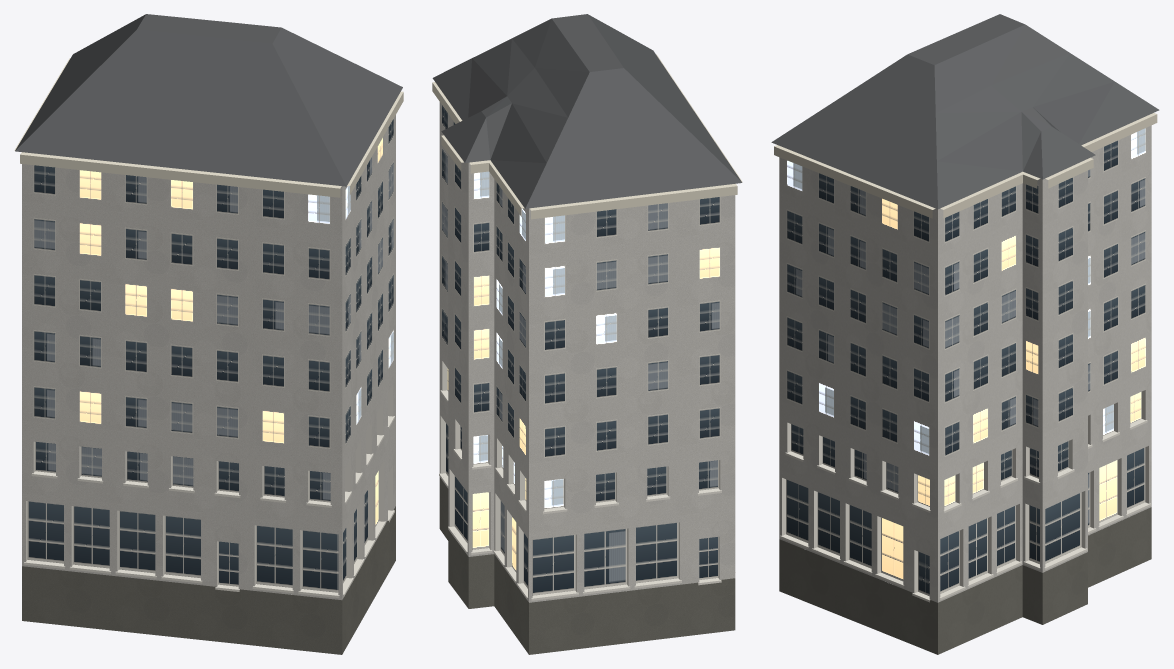
File: ida9.glb
3 views of the same model, side by side, from view 1: azimuth 30°, elevation 25°; view 2: azimuth 150°, elevation 25°; view 3: azimuth 270°, elevation 25° (orthographic). The views are drawn at different scales.
Visible parts, largest first — view 1: ida9; view 2: ida9; view 3: ida9.
Part boxes in pixels (x1,y1,x2,y2): ida9: [14, 14, 403, 654]; ida9: [432, 14, 742, 654]; ida9: [771, 14, 1159, 654].
Bounding box in the file's own units: 20.47 × 30.83 × 20.27.
3 materials, 3 textured.
